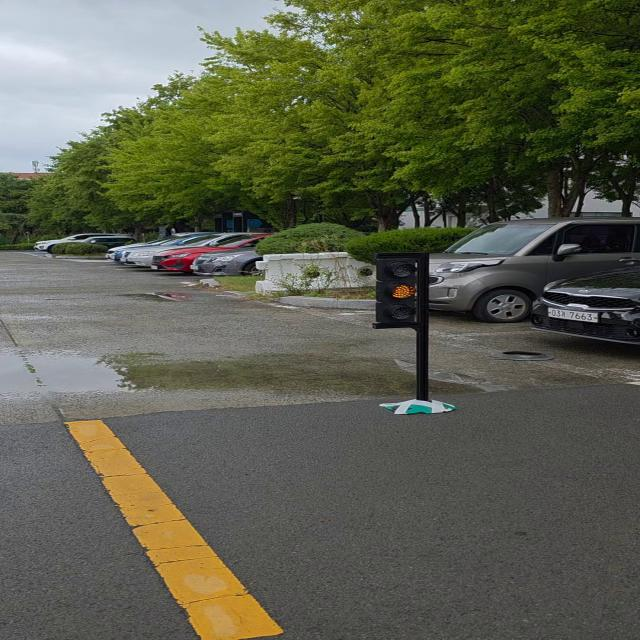yellow: (374, 257, 432, 325)
